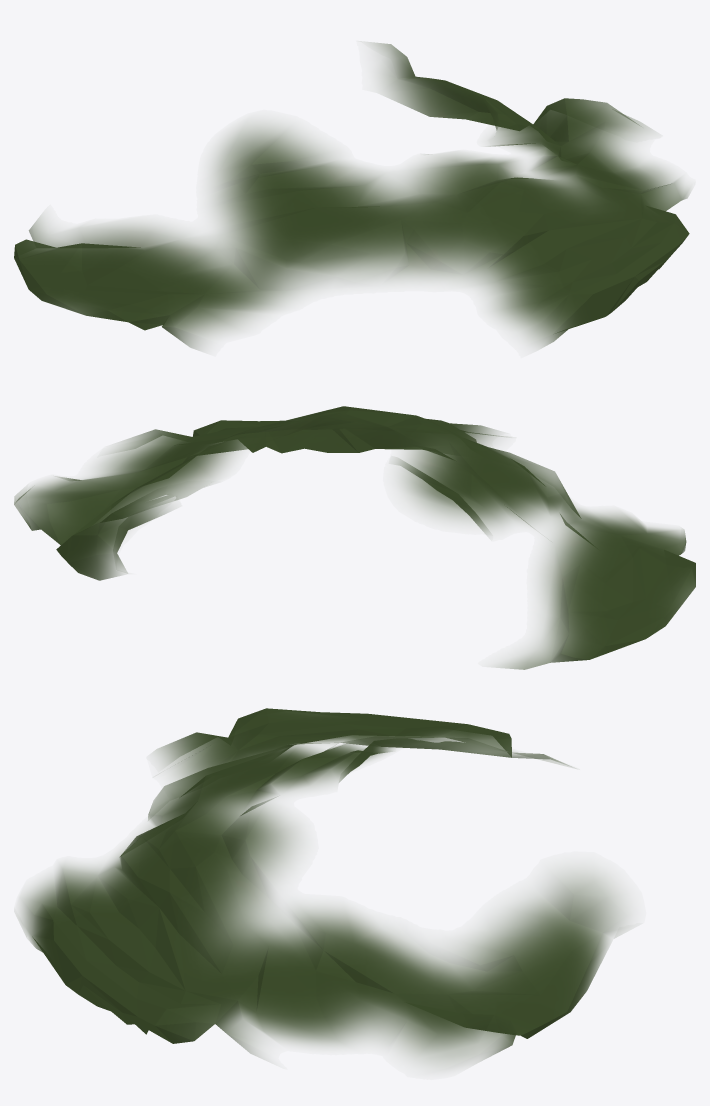
Rendered from enchanted_SM_Env_Mushroom_Cap_01.gltf.
3 views of the same model, one above another, from view 1: azimuth 30°, elevation 25°; view 2: azimuth 150°, elevation 25°; view 3: azimuth 270°, elevation 25° (orthographic). The views are drawn at different scales.
Visible parts, largest first — view 1: SM_Env_Mushroom_Cap_01_LOD0; view 2: SM_Env_Mushroom_Cap_01_LOD0; view 3: SM_Env_Mushroom_Cap_01_LOD0.
Boxes of the visible parts, bbox=[...] form: SM_Env_Mushroom_Cap_01_LOD0: bbox=[14, 42, 689, 350]; SM_Env_Mushroom_Cap_01_LOD0: bbox=[14, 406, 695, 669]; SM_Env_Mushroom_Cap_01_LOD0: bbox=[18, 708, 627, 1065].
Size of what is drawn, in the model's own units: 6.31 by 1.92 by 5.12.
1 material, 1 textured.
